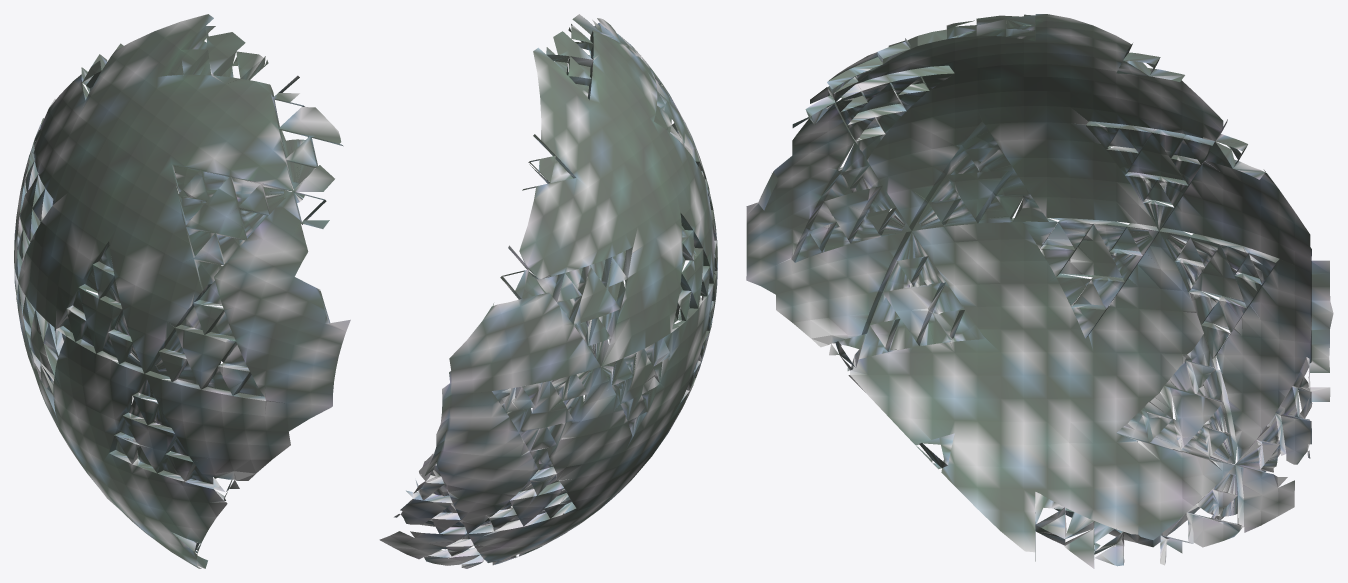
The picture shows the model from 3 angles, left to right: view 1: azimuth 30°, elevation 25°; view 2: azimuth 150°, elevation 25°; view 3: azimuth 270°, elevation 25°; orthographic projection. The views are drawn at different scales.
Bounding box in the file's own units: 0.3182 × 0.829 × 0.7964.
